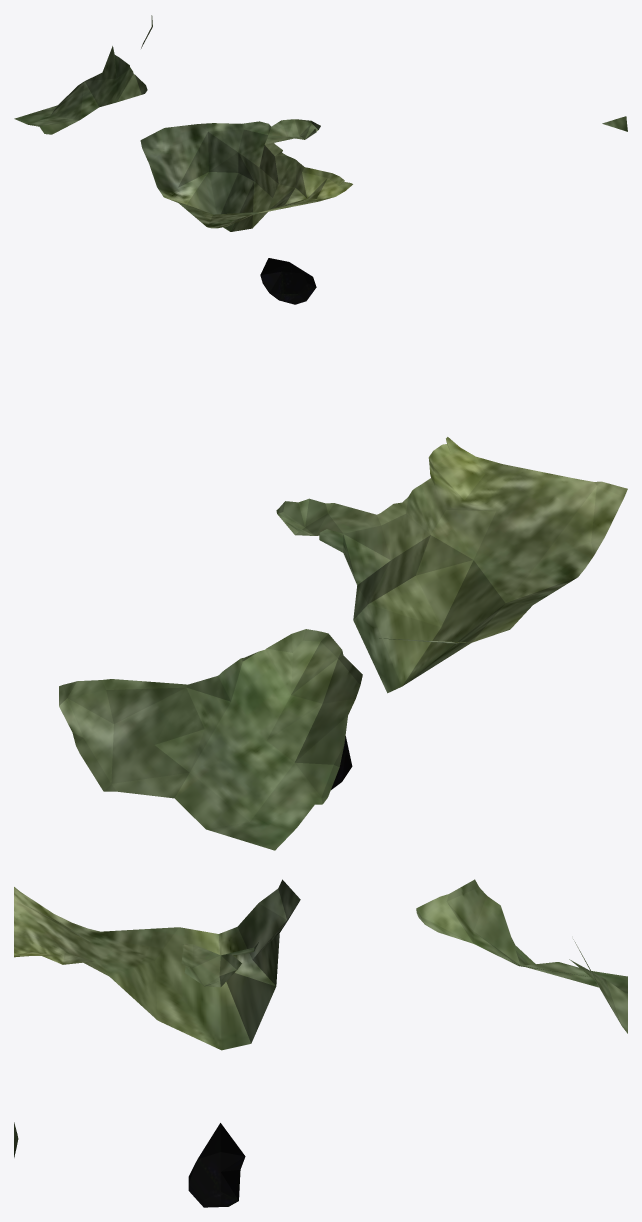
The picture shows the model from 3 angles, top to bottom: view 1: azimuth 30°, elevation 25°; view 2: azimuth 150°, elevation 25°; view 3: azimuth 270°, elevation 25°; orthographic projection. The views are drawn at different scales.
Bounding box in the file's own units: 2.95 × 1.28 × 2.95.
Materials: 1 (1 with a texture image).
